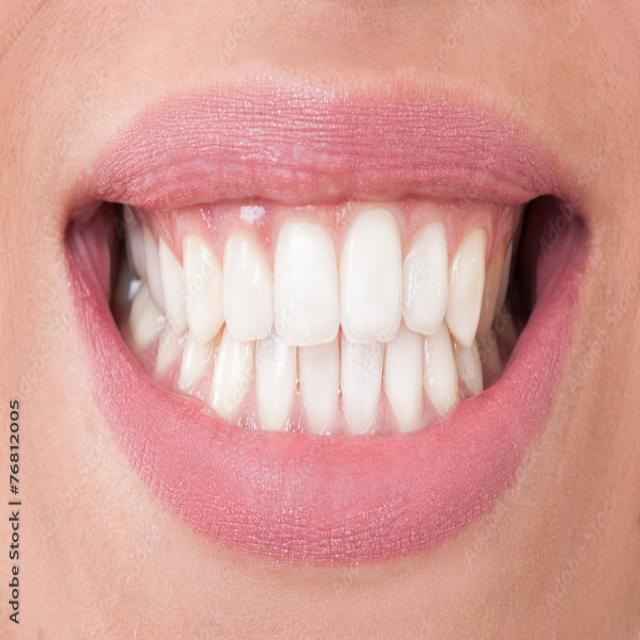tooth: (340, 213, 402, 341), (275, 219, 340, 339), (222, 229, 270, 356), (402, 220, 448, 332), (341, 334, 384, 440), (447, 225, 486, 338), (184, 230, 224, 340), (255, 336, 298, 434), (388, 332, 427, 434), (300, 334, 339, 434), (425, 328, 459, 418), (214, 339, 255, 413), (158, 239, 186, 332), (137, 222, 164, 304), (178, 336, 212, 392), (457, 336, 486, 400), (154, 322, 183, 378), (127, 292, 158, 340)
